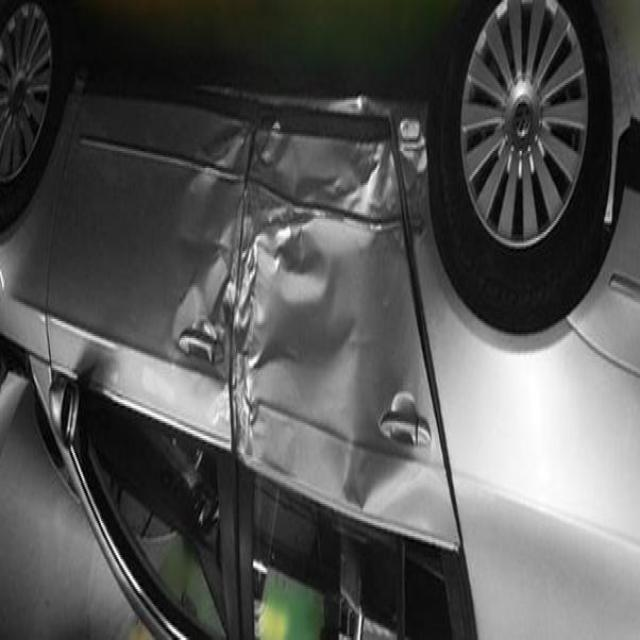dent: (144, 106, 430, 428)
